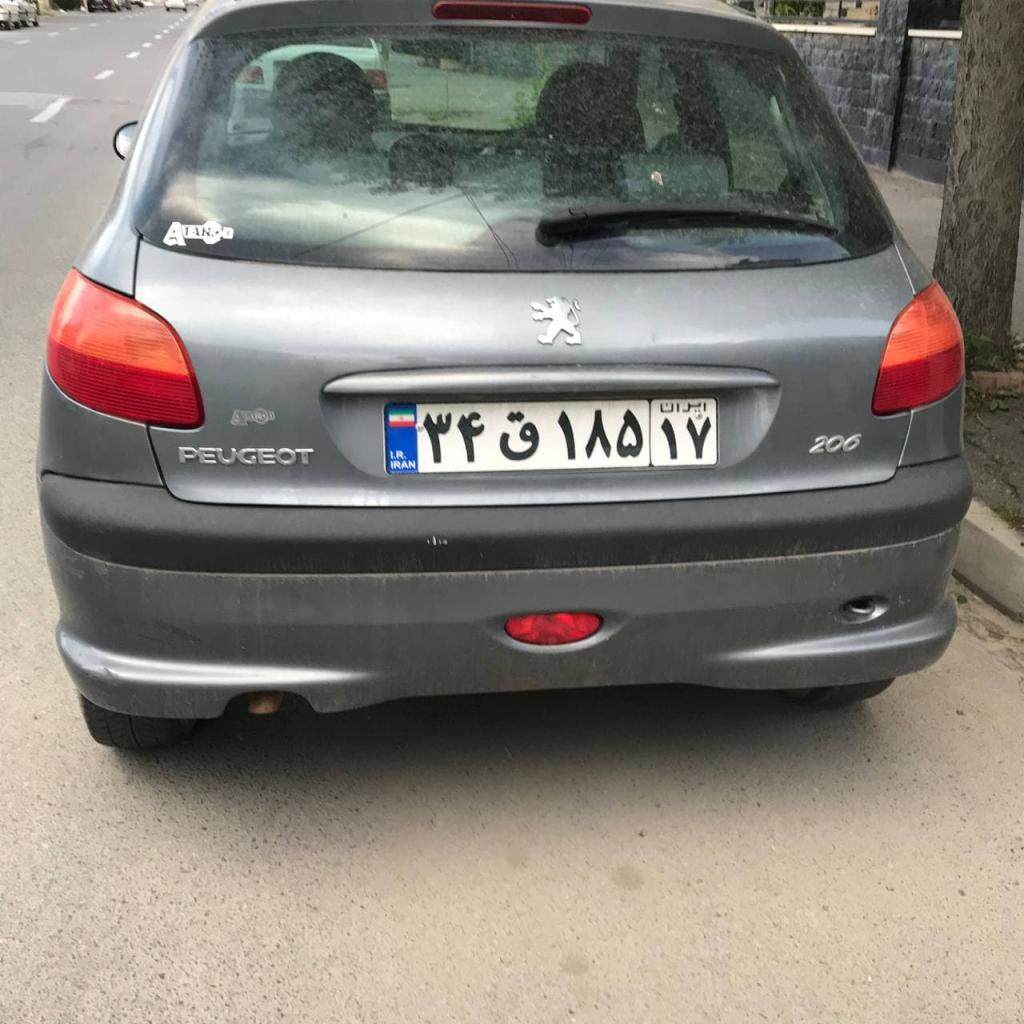Plates: (383, 398, 718, 475)
